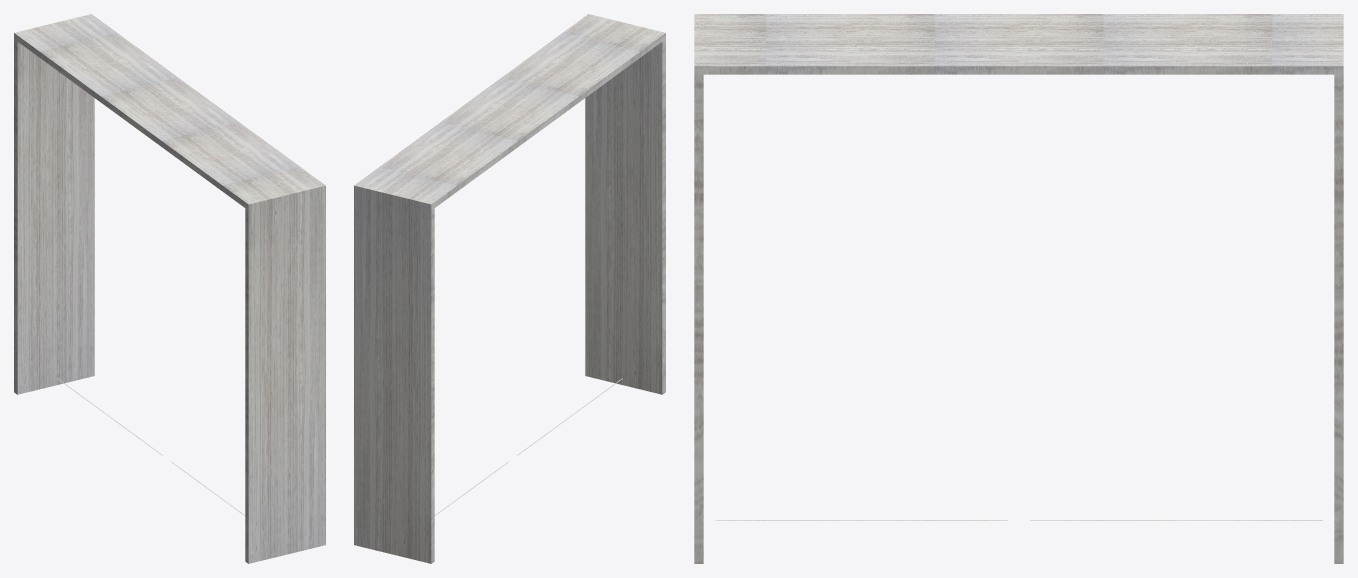
The model's file is flame.FBX.
3 renders of one model, left to right at view 1: azimuth 30°, elevation 25°; view 2: azimuth 150°, elevation 25°; view 3: azimuth 270°, elevation 25°, orthographic. The views are drawn at different scales.
Parts seen in each view (by area): view 1: PivotDoor008; view 2: PivotDoor008; view 3: PivotDoor008.
Part boxes in pixels (left/top/right/bottom): PivotDoor008: left=14, top=14, right=325, bottom=563; PivotDoor008: left=354, top=14, right=665, bottom=563; PivotDoor008: left=694, top=14, right=1343, bottom=563.
Size of the model in its own units: 57.25 by 254 by 301.
1 material, 1 textured.
